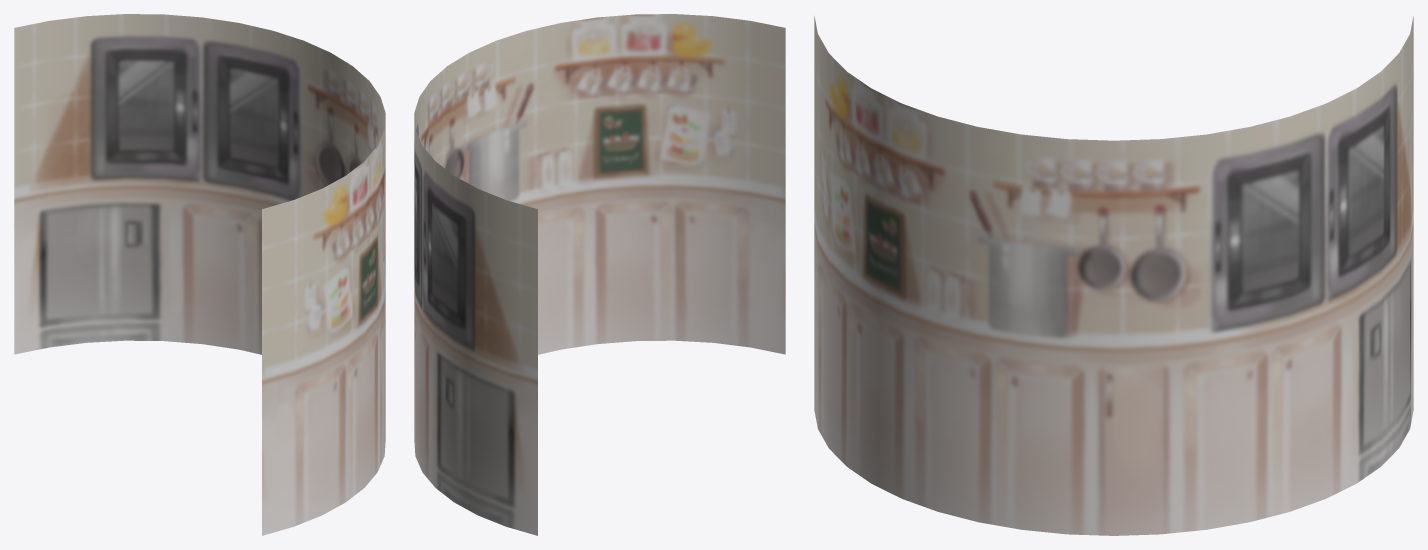
File: kitchen.FBX
The picture shows the model from 3 angles, left to right: view 1: azimuth 30°, elevation 25°; view 2: azimuth 150°, elevation 25°; view 3: azimuth 270°, elevation 25°; orthographic projection. The views are drawn at different scales.
Visible parts, largest first — view 1: Cylinder006; view 2: Cylinder006; view 3: Cylinder006.
Part boxes in pixels (x1,y1,x2,y2): Cylinder006: (14, 14, 385, 535); Cylinder006: (414, 14, 785, 535); Cylinder006: (814, 16, 1413, 535).
Bounding box in the file's own units: 20000 × 29099 × 40000.
